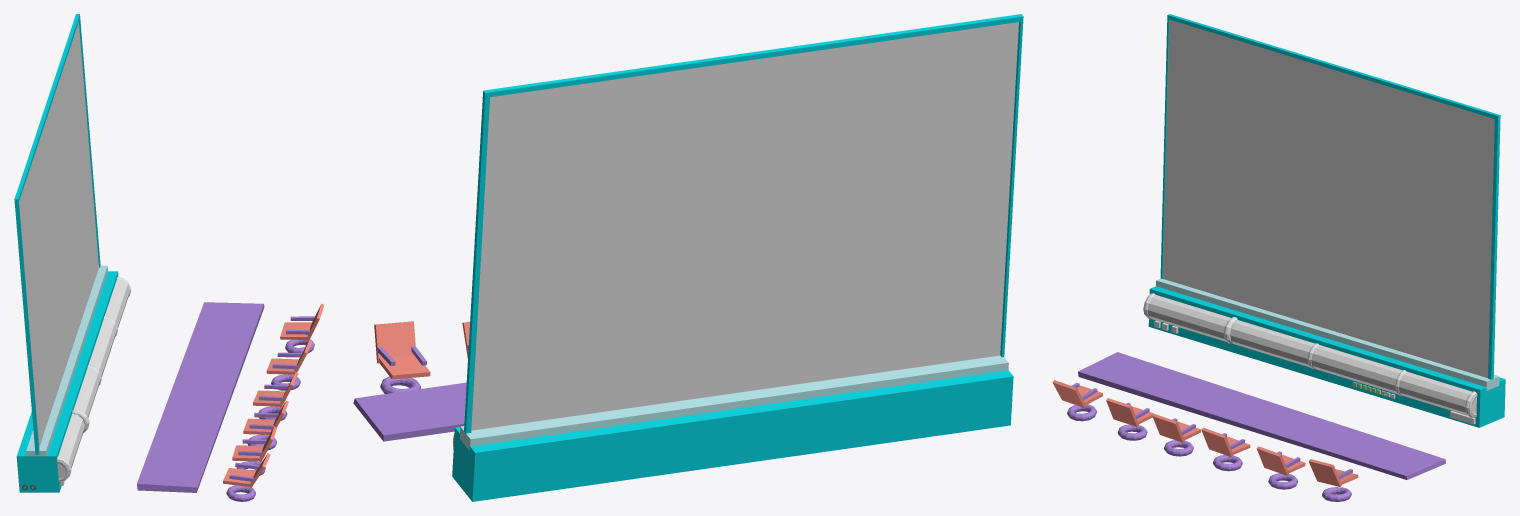
File: chairsScaled.fbx
The picture shows the model from 3 angles, left to right: view 1: azimuth 30°, elevation 25°; view 2: azimuth 150°, elevation 25°; view 3: azimuth 270°, elevation 25°; orthographic projection. The views are drawn at different scales.
Visible parts, largest first — view 1: group_794058697, group_2020967549; view 2: group_794058697, group_2020967549; view 3: group_794058697, group_2020967549.
Part boxes in pixels (x1,y1,x2,y2): group_794058697: [14, 14, 130, 492]; group_2020967549: [137, 302, 324, 501]; group_794058697: [452, 14, 1023, 501]; group_2020967549: [353, 321, 469, 441]; group_794058697: [1143, 14, 1505, 427]; group_2020967549: [1052, 352, 1445, 501].
Size of the model in its own units: 1.59 by 1.26 by 1.59.
